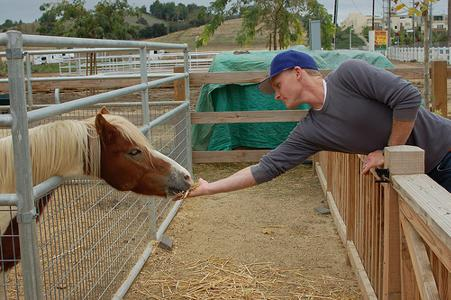person: (173, 51, 451, 201)
